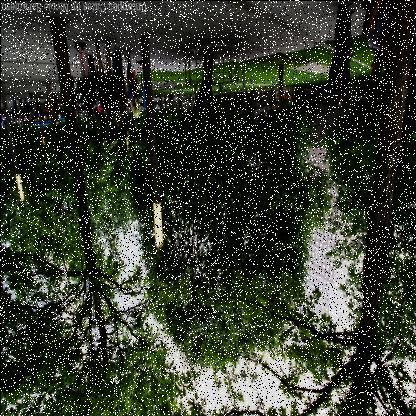Tree: (1, 15, 182, 415), (129, 34, 318, 372), (300, 1, 415, 415), (13, 74, 128, 333), (360, 78, 415, 401), (321, 72, 415, 248), (0, 75, 68, 304), (250, 54, 322, 229), (81, 103, 160, 245)
